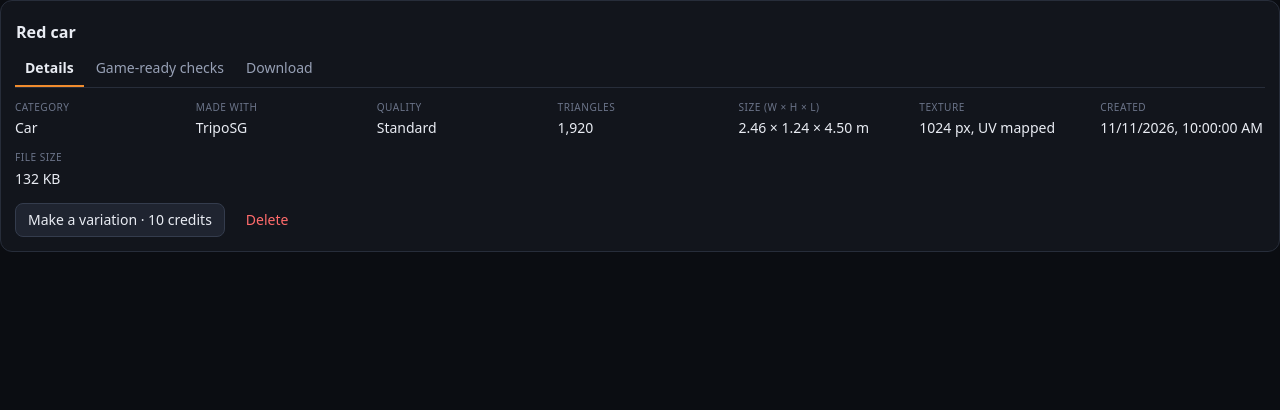
Scenario: AssetPanel › offers only the downloads that exist and reports a failed one
Click the tab "Download": (279, 69) 236,51 -> 323,87
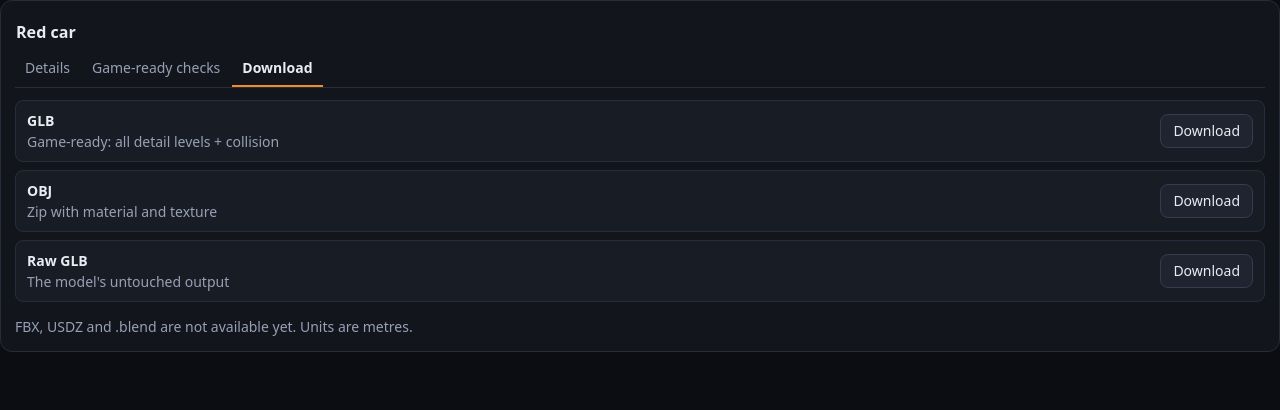
Now the text "GLB" is shown, box 27,111 -> 54,130
Now the text "OBJ" is shown, box 27,181 -> 52,200
Now the text "Raw GLB" is shown, box 27,251 -> 88,270
Click the button "Download" in the row of "OBJ": (1207, 201) 1160,184 -> 1253,218
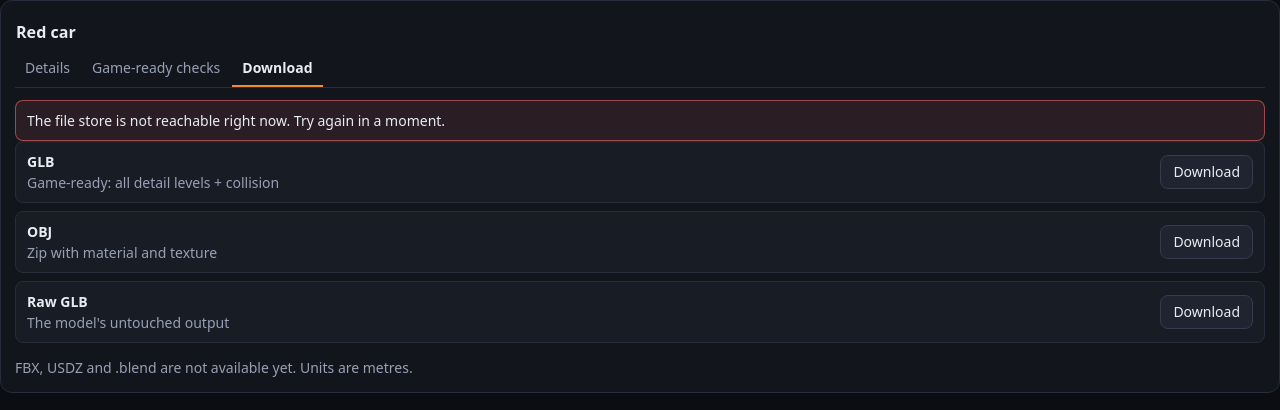
Now the message shows "not reachable right now. Try again in a moment.", box 27,111 -> 445,130
